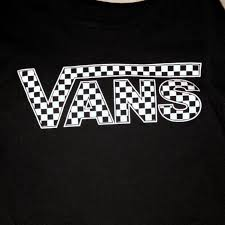vans: (16, 62, 202, 129)
